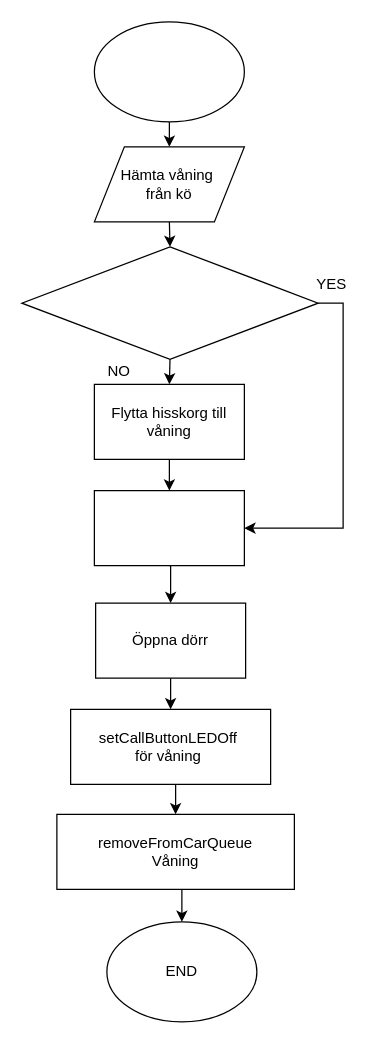
This 379x1044 diagram has some shape labels left out. The shapes that lost their labels are listed below. From the top down, each one's centre as x and y in pixels, then its label:
At point 168,71: "START".
At point 169,302: "Våning == elevatorFloorPosition?".
At point 168,527: "setIndicatorLED för våning".
